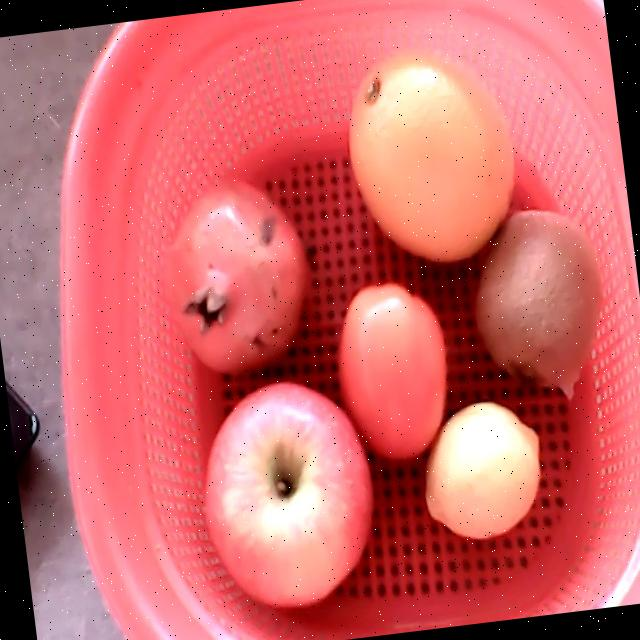apple: (203, 382, 374, 607)
kiwi: (473, 209, 604, 387)
lemon: (425, 400, 540, 540)
orange: (348, 54, 515, 261)
pomegranate: (164, 177, 307, 373)
tomato: (338, 280, 447, 458)
